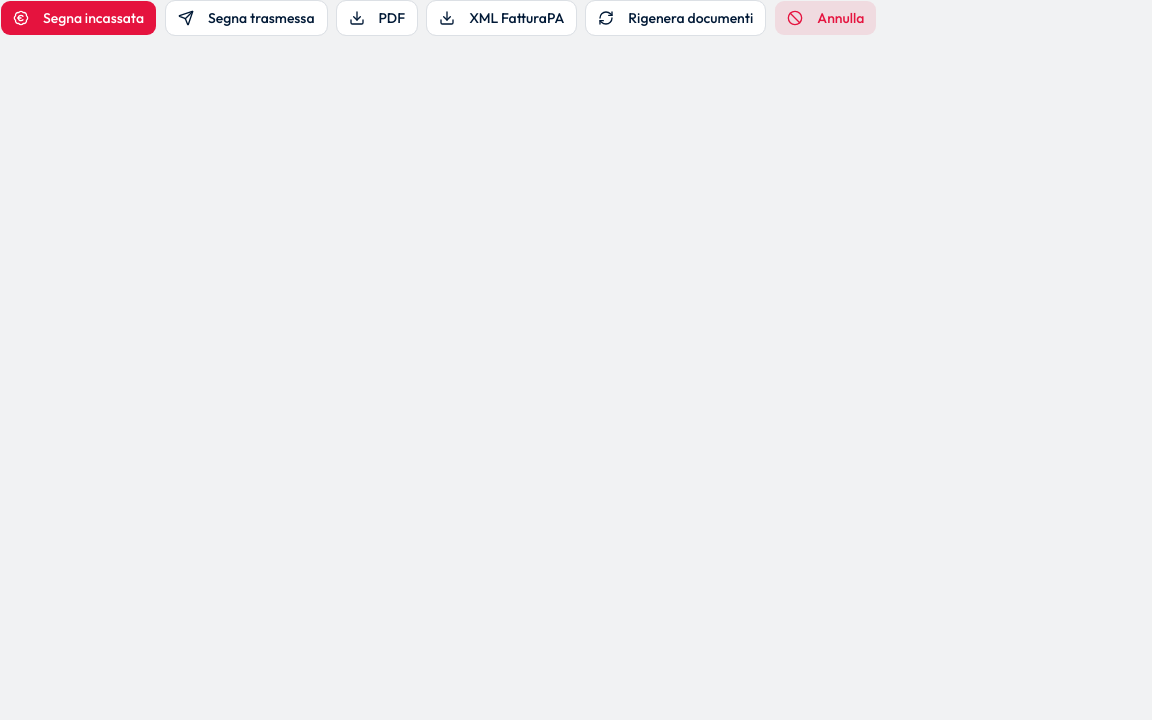
Test case: InvoiceActions › says annulment keeps the number, rather than offering a delete
Step 1. Click the button "Annulla" → (826, 18), box 774,0 -> 877,36
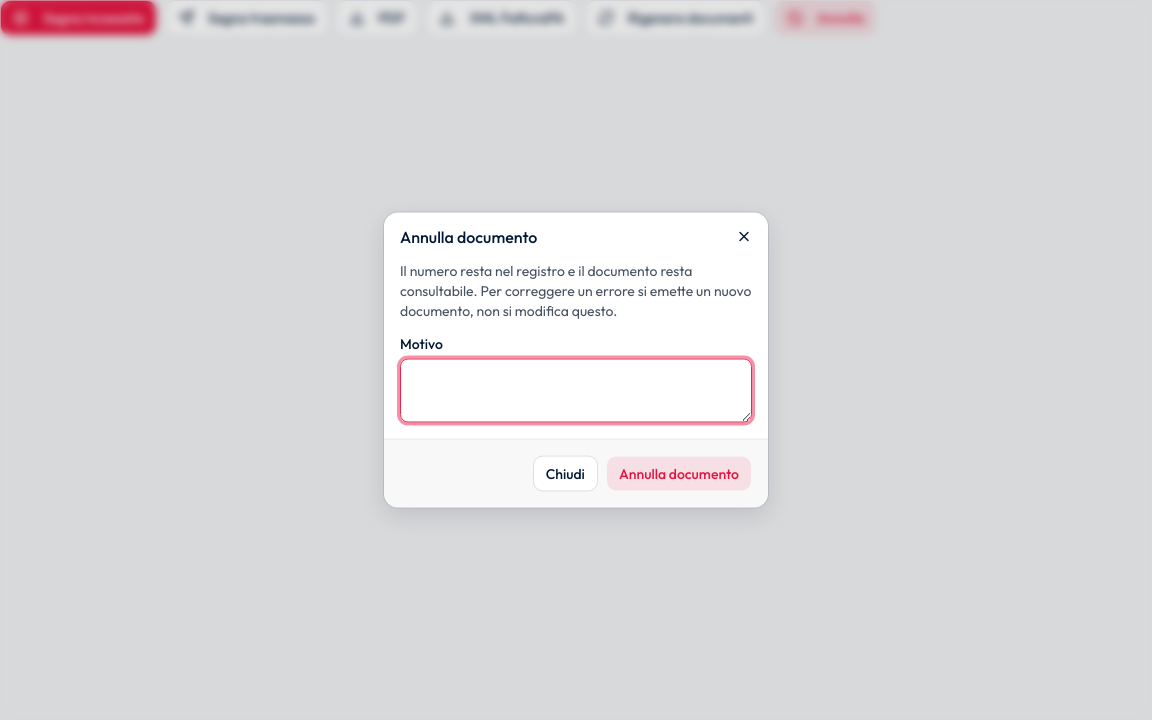
Expected: the text "Il numero resta nel registro" is shown, 400,262 -> 751,320
